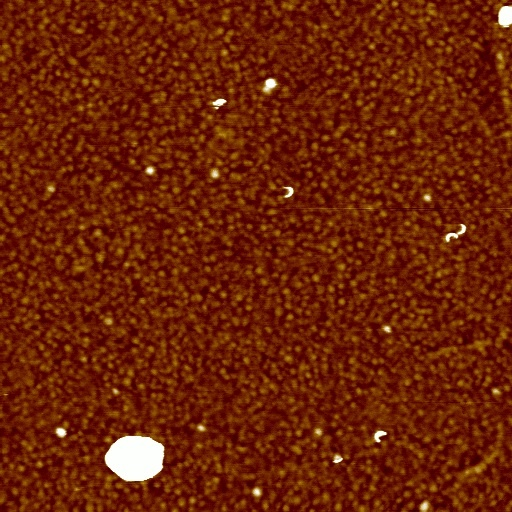-1: (104, 433, 168, 485), (497, 3, 510, 31), (262, 73, 278, 93), (211, 95, 229, 110), (55, 428, 69, 441), (332, 454, 345, 466)
2/4: (374, 427, 391, 445), (455, 221, 472, 237), (441, 231, 460, 245), (281, 185, 295, 200)
